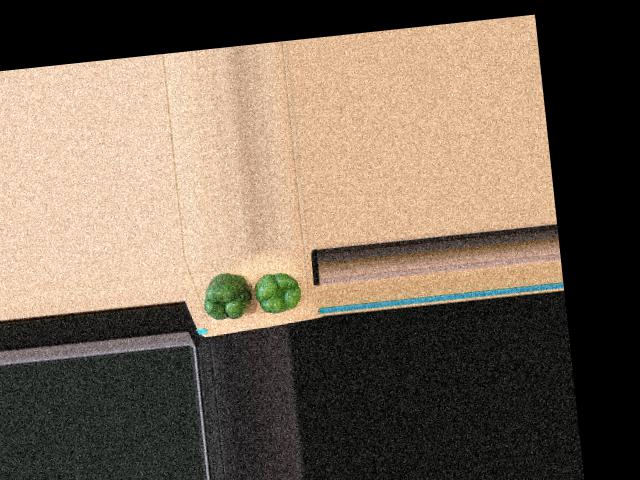bell_pepper: (251, 265, 302, 316)
